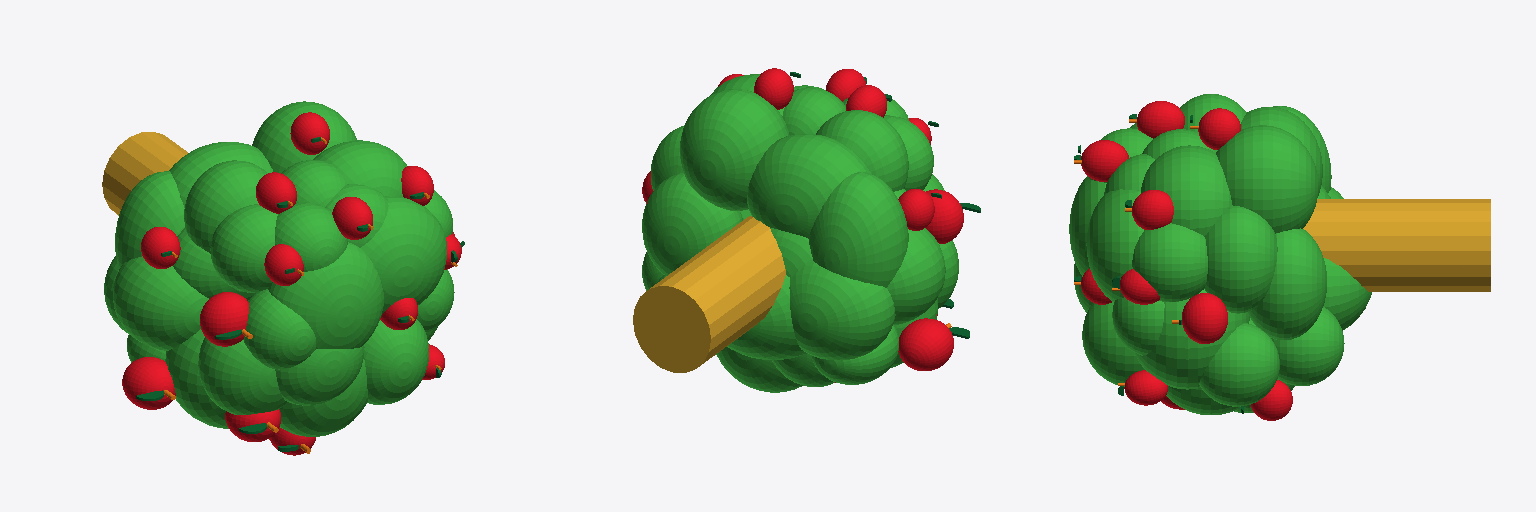
File: tinker.obj
3 renders of one model, left to right at view 1: azimuth 30°, elevation 25°; view 2: azimuth 150°, elevation 25°; view 3: azimuth 270°, elevation 25°, orthographic.
Parts seen in each view (by area): view 1: obj_0; view 2: obj_0; view 3: obj_0.
Part boxes in pixels (left/top/right/bottom): obj_0: left=102, top=101, right=464, bottom=455; obj_0: left=633, top=68, right=980, bottom=392; obj_0: left=1069, top=94, right=1490, bottom=420.
Size of the model in its own units: 86 by 81 by 98.